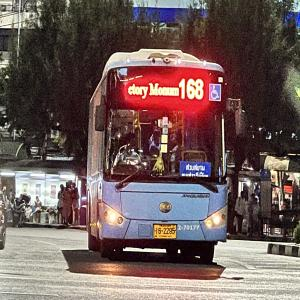BMTA-bus: (81, 42, 247, 266)
Bus Line Number: (178, 76, 205, 104)
Bus Side Number: (177, 222, 200, 233)
Destination Sign: (179, 162, 211, 178)
